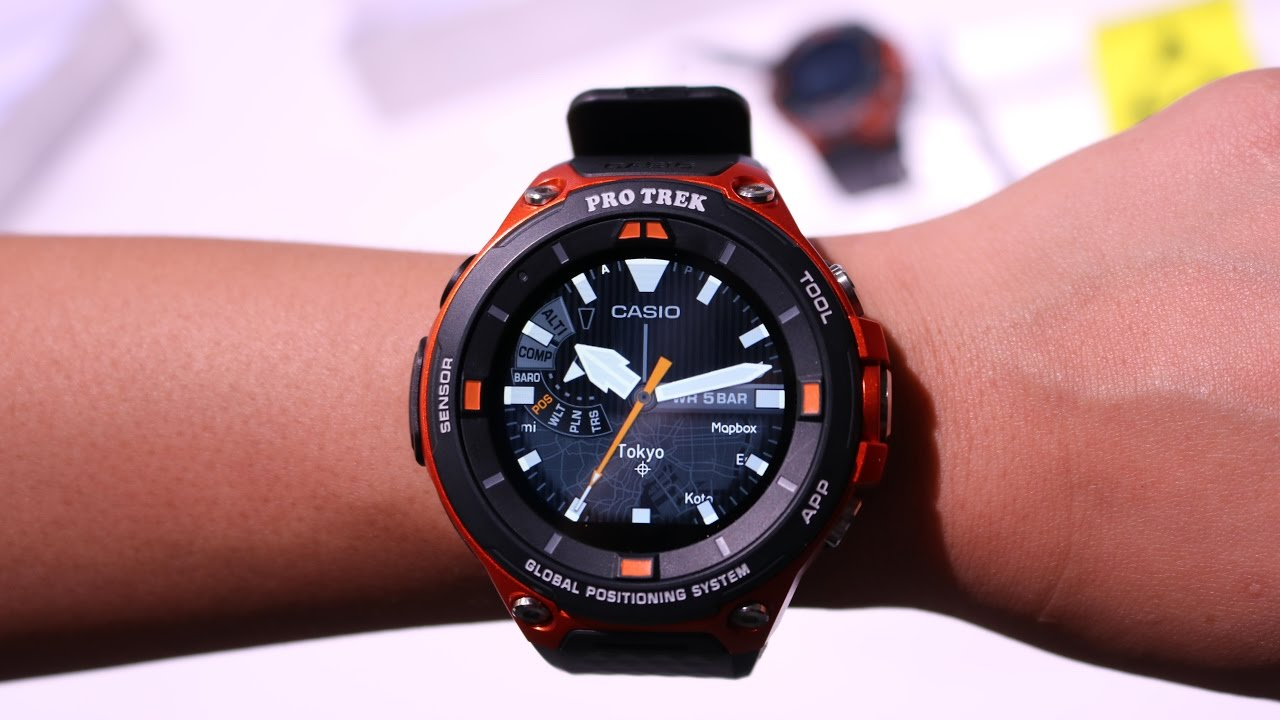clock: (409, 178, 881, 636)
